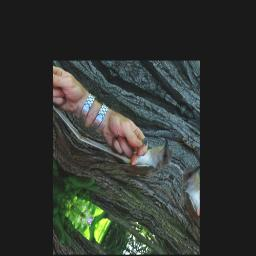Cuckoo: (77, 89, 179, 202)
